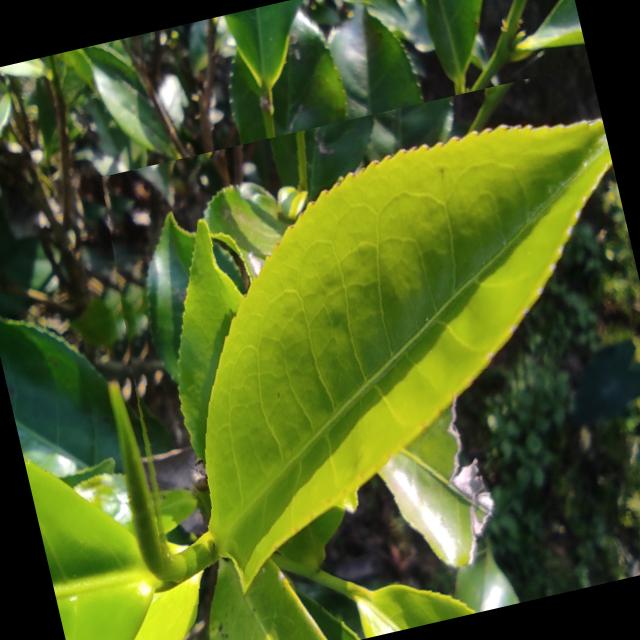Category B(2-4 days): (71, 63, 640, 617)
